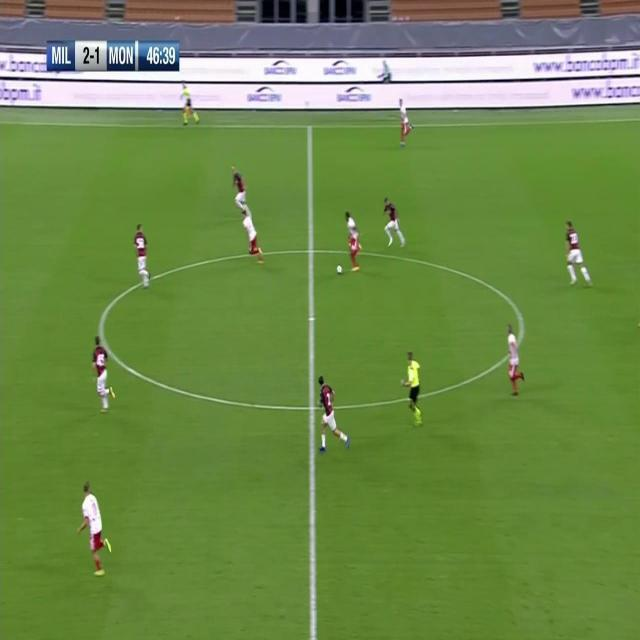ball: (336, 263, 343, 275)
player: (76, 479, 112, 577), (316, 374, 352, 454), (563, 220, 593, 286), (92, 336, 116, 415), (504, 323, 524, 397), (240, 208, 264, 266), (133, 222, 153, 290), (382, 195, 406, 249), (230, 163, 252, 216), (346, 212, 362, 274), (180, 80, 199, 126), (398, 96, 414, 145)
referee: (400, 349, 426, 426)
